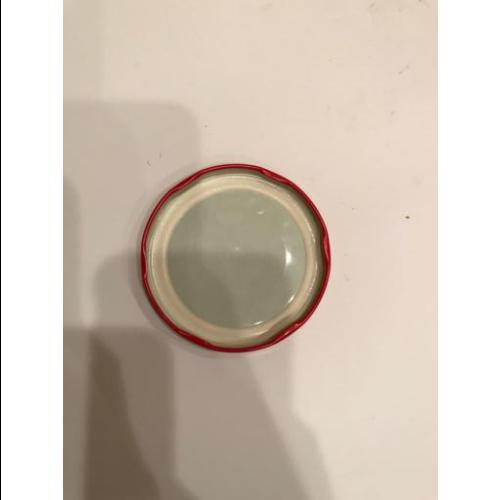metal: (138, 162, 333, 354)
